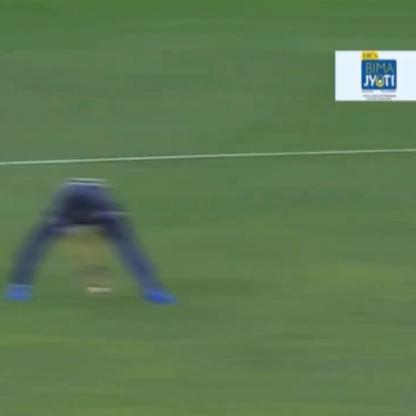ball: (98, 285, 120, 296), (89, 285, 98, 296)
